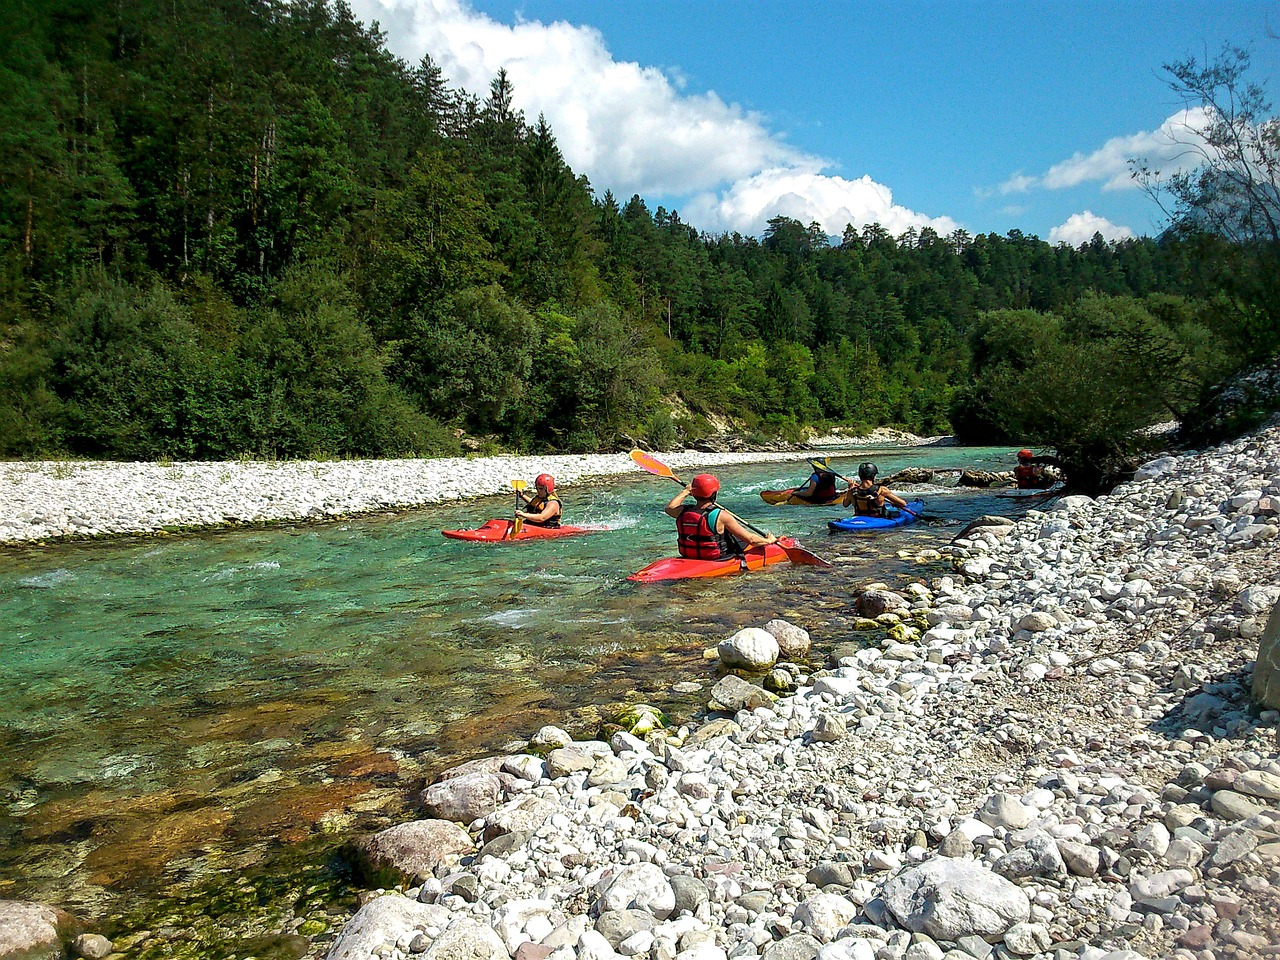kayak: (625, 536, 831, 585), (441, 514, 617, 544), (826, 496, 930, 532)
